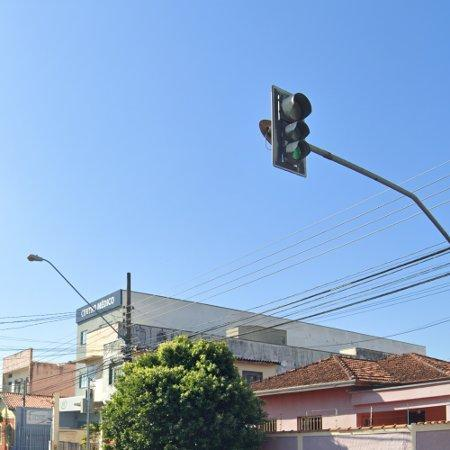traffic lights: (273, 85, 312, 177)
